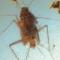cockroach: (20, 7, 38, 48)
